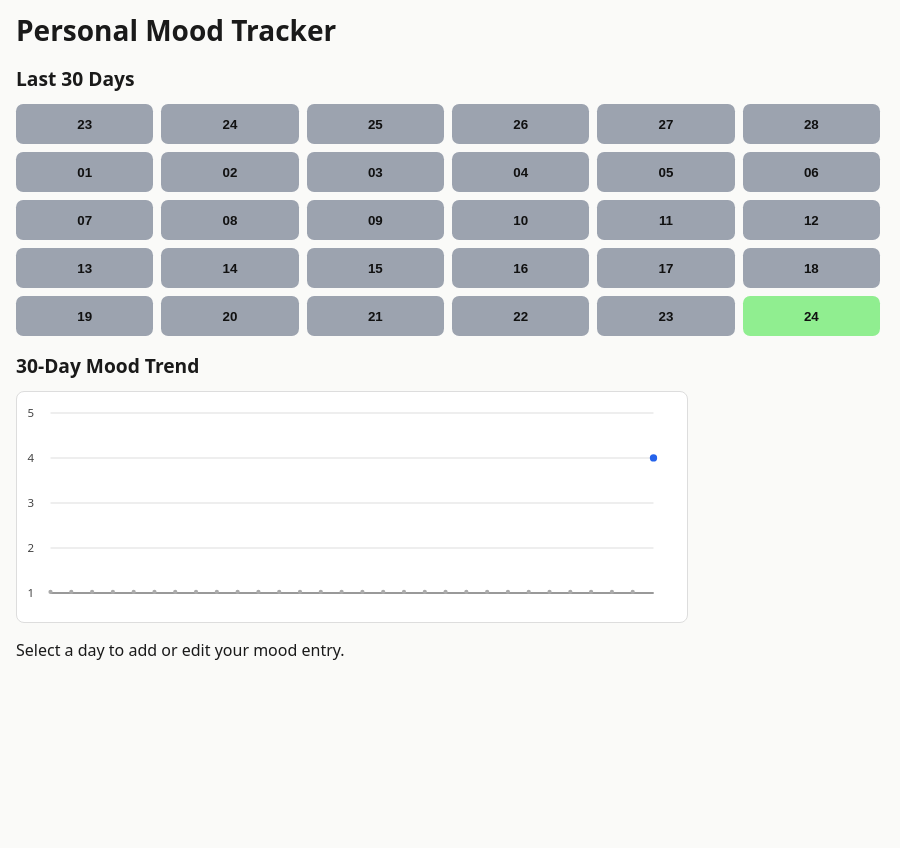
Test: mood grid and day form › pre-fills the form when an entry already exists
Click the 2nd button "24". click: x=811, y=316
box: [743,296,880,336]
(page scrolled)
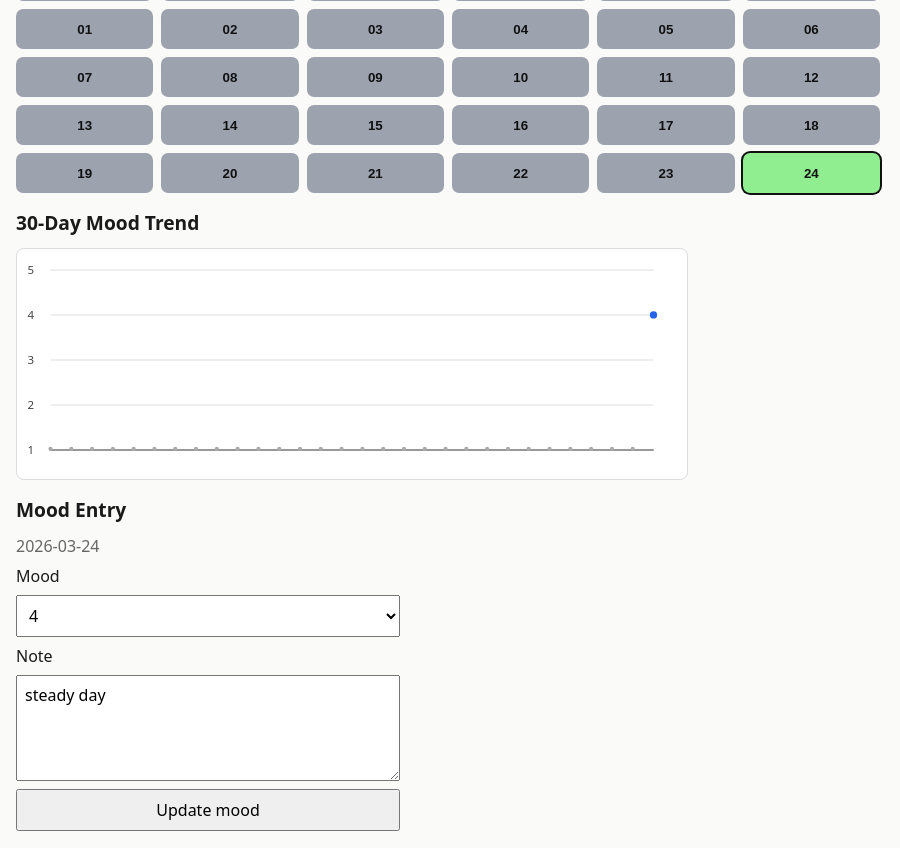
Result: the dropdown labelled "Mood" shows "4" at [16,595,400,637]
Result: the text box labelled "Note" holds "steady day" at [16,675,400,781]
